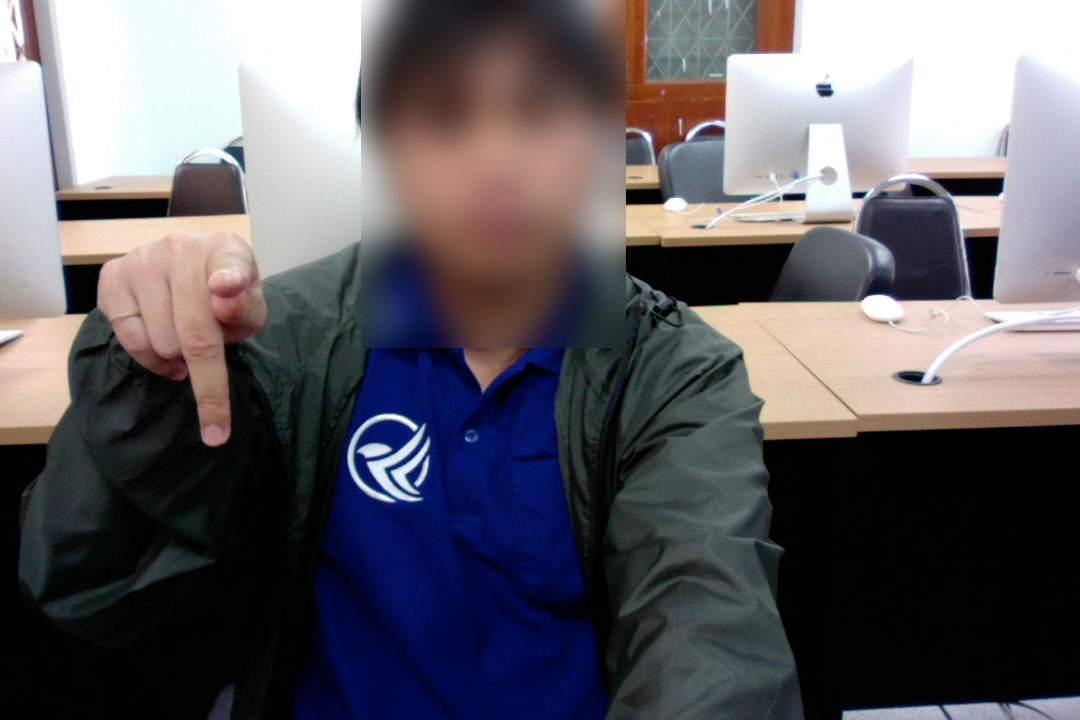por: (88, 232, 281, 456)
